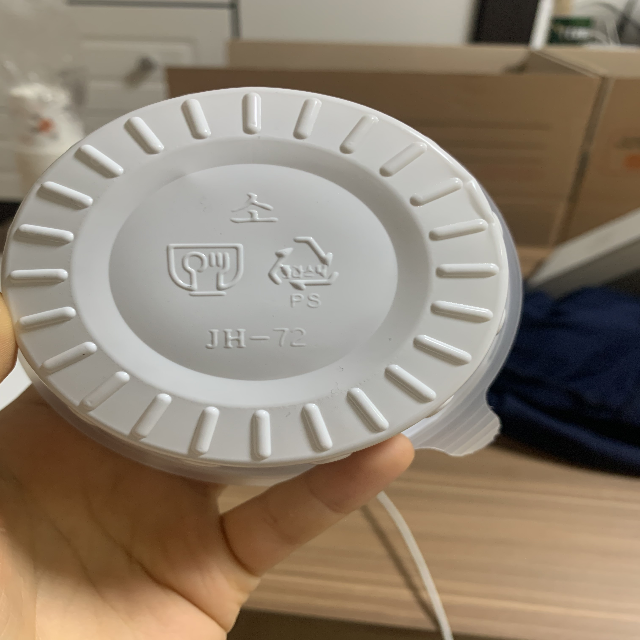ps: (264, 231, 347, 312)
